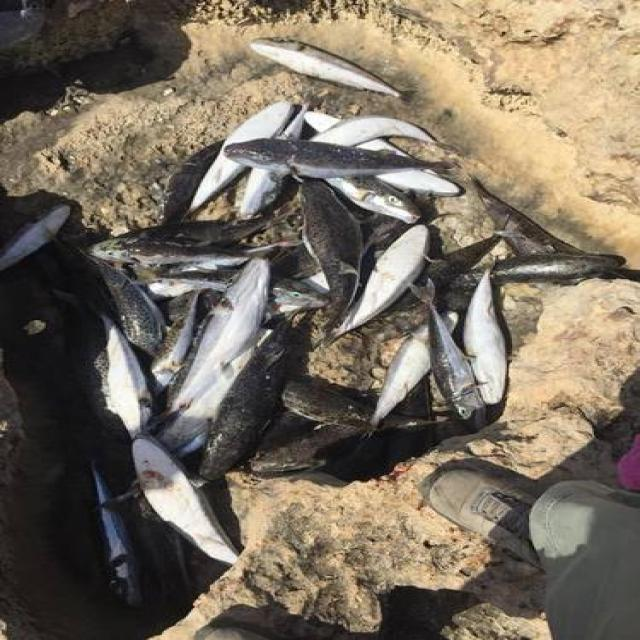Balik: (80, 101, 623, 564), (251, 38, 398, 95), (92, 467, 138, 603), (0, 205, 68, 269)
